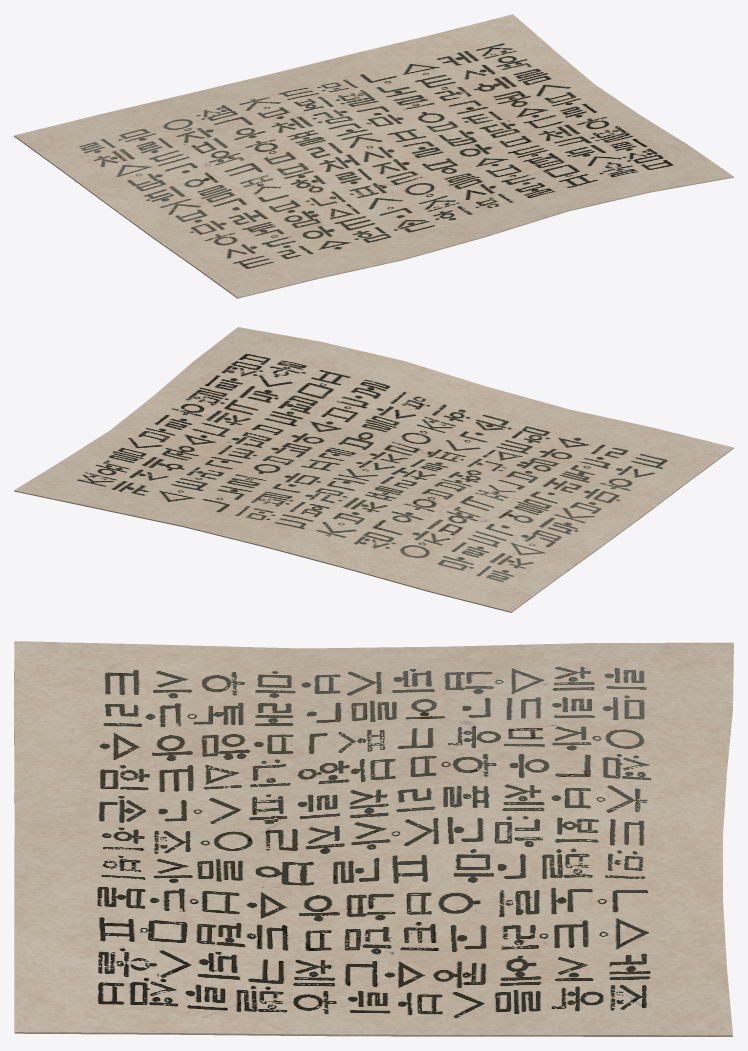
Rendered from library_loom_paper_01.fbx.
3 views of the same model, one above another, from view 1: azimuth 30°, elevation 25°; view 2: azimuth 150°, elevation 25°; view 3: azimuth 270°, elevation 25° (orthographic). The views are drawn at different scales.
Parts seen in each view (by area): view 1: Plane; view 2: Plane; view 3: Plane.
Boxes of the visible parts, x1,y1,x2,y2 form: Plane: (14, 14, 733, 298); Plane: (14, 327, 733, 612); Plane: (14, 641, 733, 1036).
Bounding box in the file's own units: 49.3 × 1.2 × 38.24.
